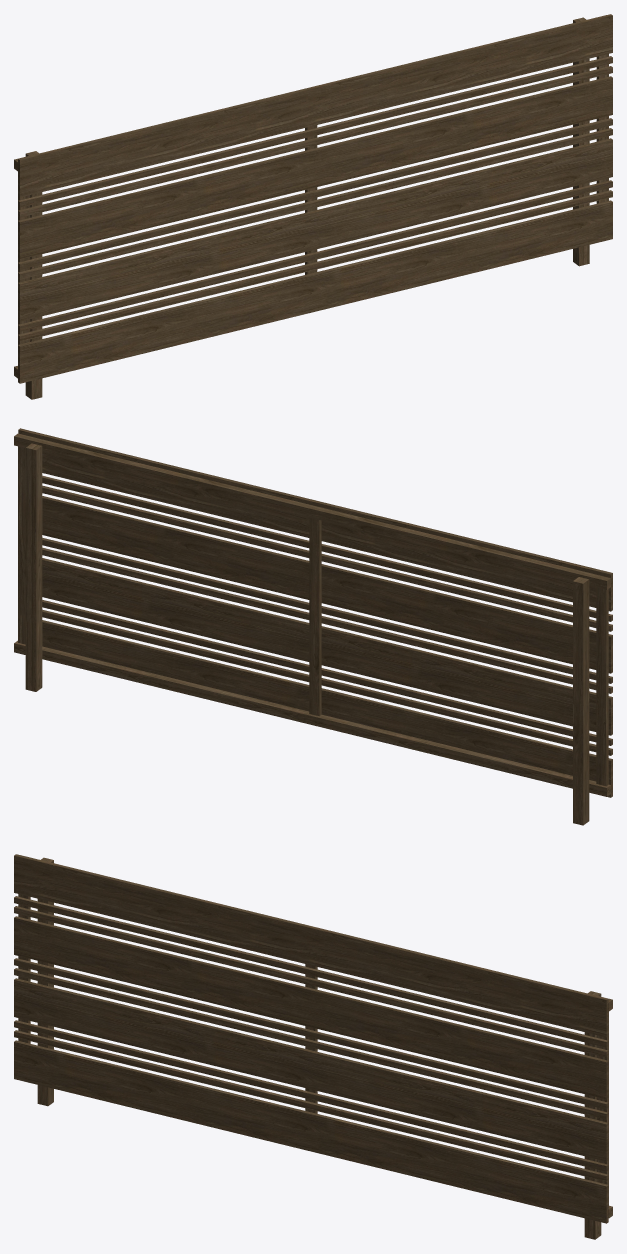
The model's file is EAF-plus-120-18_w1999-h800_brownebony.fbx.
3 views of the same model, one above another, from view 1: azimuth 30°, elevation 25°; view 2: azimuth 150°, elevation 25°; view 3: azimuth 330°, elevation 25° (orthographic).
Parts seen in each view (by area): view 1: EAF-plus-120-18_w1999-h800_chacoalgray; view 2: EAF-plus-120-18_w1999-h800_chacoalgray; view 3: EAF-plus-120-18_w1999-h800_chacoalgray.
Part boxes in pixels (bbox=[...]): EAF-plus-120-18_w1999-h800_chacoalgray: bbox=[14, 14, 612, 399]; EAF-plus-120-18_w1999-h800_chacoalgray: bbox=[14, 428, 612, 825]; EAF-plus-120-18_w1999-h800_chacoalgray: bbox=[14, 854, 612, 1239].
Bounding box in the file's own units: 200 × 80 × 7.
Materials: 1 (1 with a texture image).
